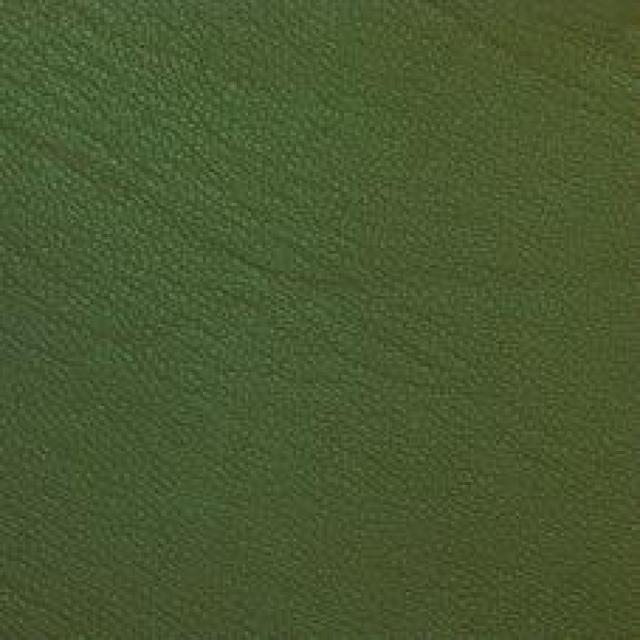Growth Marks: (284, 231, 485, 395), (34, 26, 180, 205)
